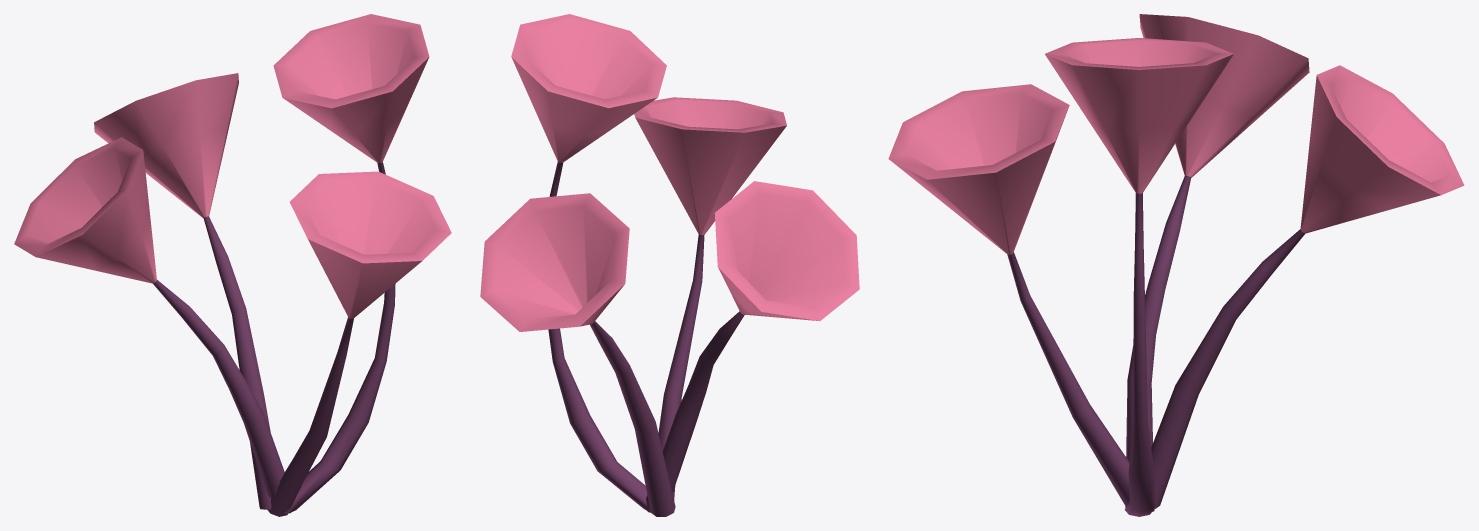
The model's file is Flower_02.fbx.
The picture shows the model from 3 angles, left to right: view 1: azimuth 30°, elevation 25°; view 2: azimuth 150°, elevation 25°; view 3: azimuth 270°, elevation 25°; orthographic projection. The views are drawn at different scales.
Parts seen in each view (by area): view 1: Flower_02; view 2: Flower_02; view 3: Flower_02.
Part boxes in pixels (x1,y1,x2,y2): Flower_02: (14, 14, 451, 516); Flower_02: (480, 14, 859, 516); Flower_02: (888, 14, 1464, 516).
Size of the model in its own units: 0.1735 by 0.2077 by 0.2082.
